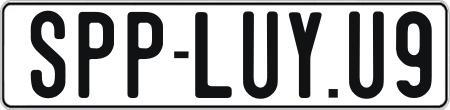9: (393, 10, 433, 103)
L: (194, 11, 235, 97)
P: (76, 12, 114, 103), (125, 11, 163, 100)
S: (28, 10, 68, 97)
U: (241, 12, 279, 101), (347, 11, 382, 101)
Y: (286, 9, 323, 99)
